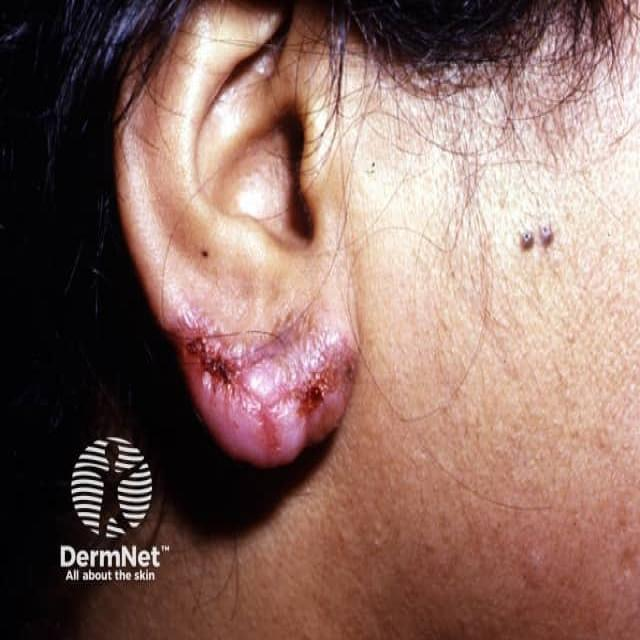lupus-detected: (138, 270, 434, 492)
